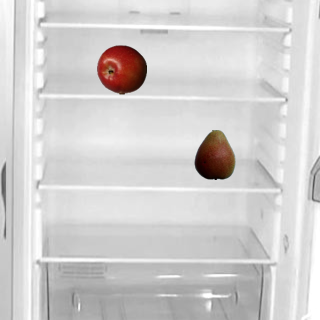Apple Braeburn: (96, 44, 146, 94)
Pear Forelle: (189, 129, 239, 179)
